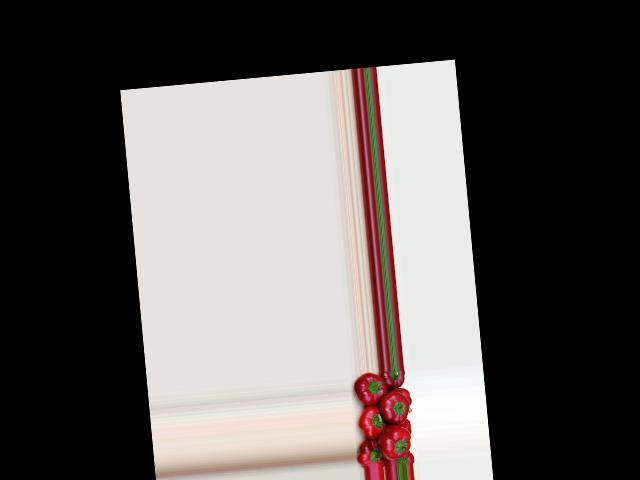bell_pepper: (398, 418, 413, 432)
